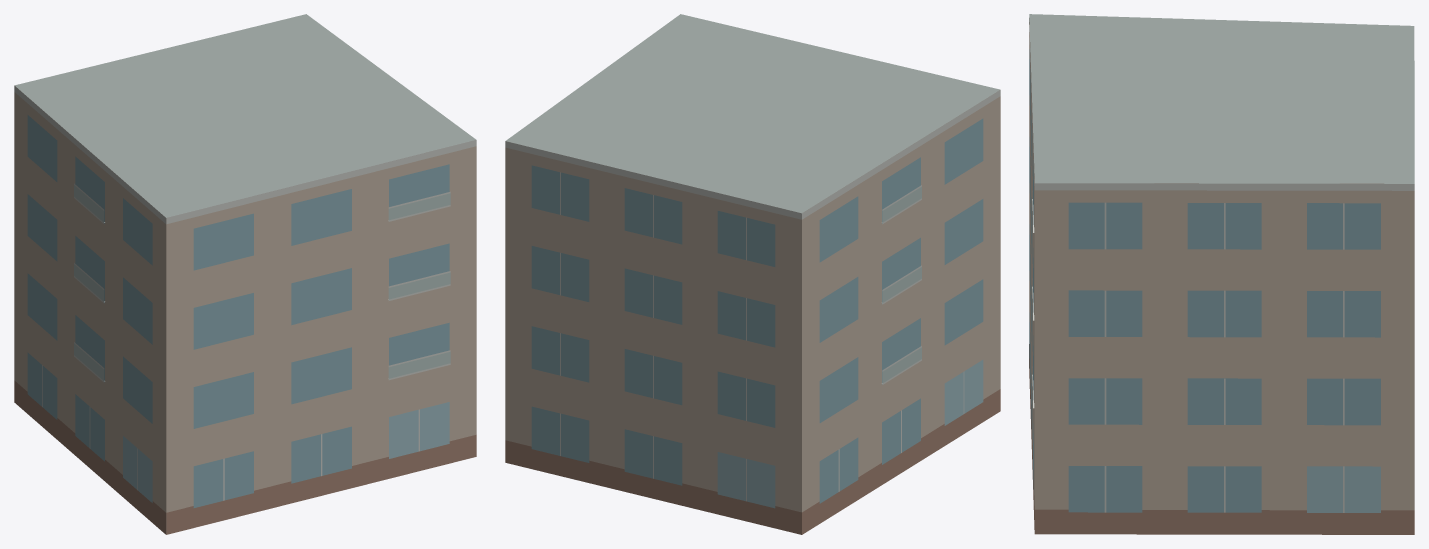
The model's file is survey-upis-32821166.glb.
3 renders of one model, left to right at view 1: azimuth 30°, elevation 25°; view 2: azimuth 150°, elevation 25°; view 3: azimuth 270°, elevation 25°, orthographic. The views are drawn at different scales.
Parts seen in each view (by area): view 1: survey-upis-32821166.tmp; view 2: survey-upis-32821166.tmp; view 3: survey-upis-32821166.tmp.
Part boxes in pixels (x1,y1,x2,y2): survey-upis-32821166.tmp: (14,14,476,534); survey-upis-32821166.tmp: (505,14,1000,534); survey-upis-32821166.tmp: (1029,14,1414,534).
Bounding box in the file's own units: 12.67 × 12.2 × 12.16.
